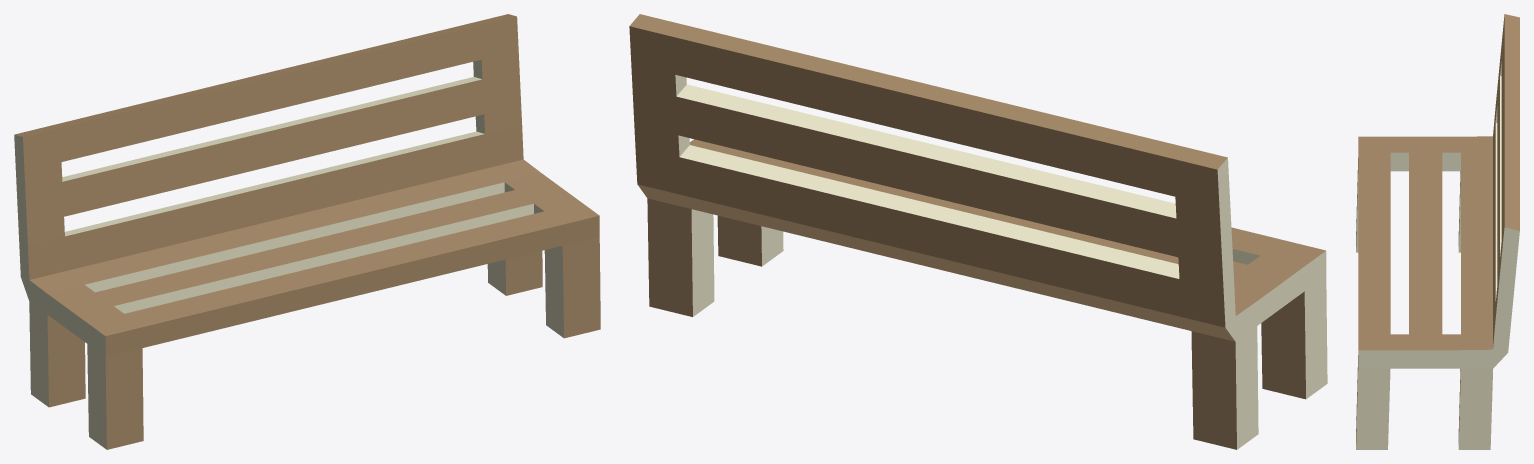
The model's file is Banco de Jardim.FBX.
The picture shows the model from 3 angles, left to right: view 1: azimuth 30°, elevation 25°; view 2: azimuth 150°, elevation 25°; view 3: azimuth 270°, elevation 25°; orthographic projection. The views are drawn at different scales.
Parts seen in each view (by area): view 1: Box015; view 2: Box015; view 3: Box015.
Part boxes in pixels (x1,y1,x2,y2): Box015: [14, 14, 600, 449]; Box015: [629, 14, 1327, 449]; Box015: [1356, 14, 1519, 449].
Size of the model in its own units: 25.12 by 12.22 by 8.15.
